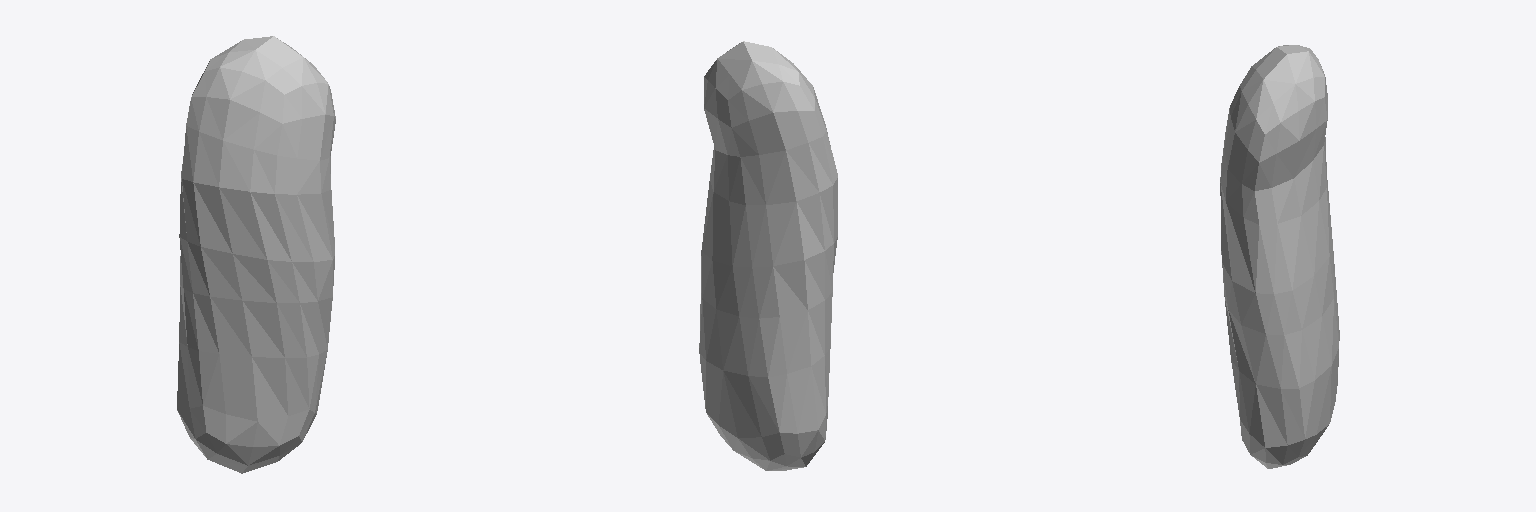
Rendered from rock6.obj.
3 renders of one model, left to right at view 1: azimuth 30°, elevation 25°; view 2: azimuth 150°, elevation 25°; view 3: azimuth 270°, elevation 25°, orthographic.
Parts seen in each view (by area): view 1: [Imported]_obj9_obj9; view 2: [Imported]_obj9_obj9; view 3: [Imported]_obj9_obj9.
Boxes of the visible parts, box(x1,y1,x2,y2) form: [Imported]_obj9_obj9: box(177, 36, 335, 473); [Imported]_obj9_obj9: box(699, 41, 837, 470); [Imported]_obj9_obj9: box(1220, 45, 1339, 468).
Size of the model in its own units: 8.89 by 25.87 by 6.61.